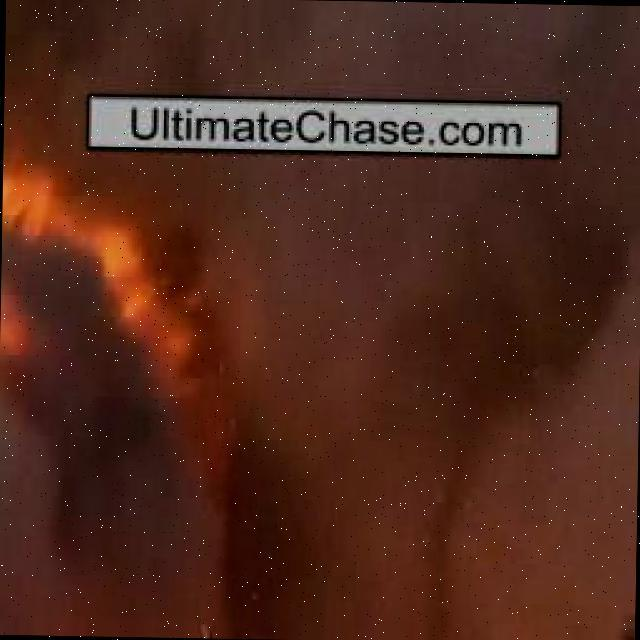Fire: (0, 133, 226, 445)
